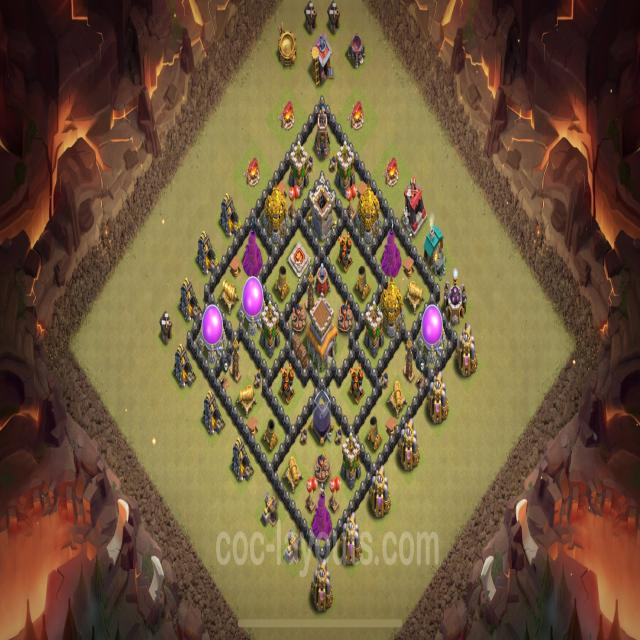air_defense: (276, 361, 296, 407), (347, 363, 367, 406), (336, 230, 354, 276)
air_sweeper: (315, 261, 331, 297)
archer_tower: (334, 137, 357, 200), (340, 429, 361, 491), (364, 300, 385, 359), (287, 140, 309, 193), (259, 302, 279, 358)
army_camp: (278, 97, 298, 134), (347, 98, 366, 134), (243, 155, 262, 189), (382, 153, 399, 190)
barracks: (310, 32, 334, 90)
builders_hut: (157, 308, 174, 348), (326, 0, 341, 39), (303, 0, 317, 35)
cannon: (282, 455, 304, 495), (236, 380, 257, 417), (404, 279, 425, 315), (387, 380, 407, 416), (220, 278, 240, 312)
clan_castle: (308, 174, 336, 237)
dark_barracks: (402, 173, 428, 236)
dark_elixir_drill: (260, 491, 280, 530), (284, 528, 302, 570)
dark_elixir_storage: (310, 388, 335, 448)
dark_spell_factory: (346, 26, 368, 73)
elixir_collector: (311, 558, 334, 616), (456, 323, 478, 382), (397, 418, 420, 474), (427, 369, 449, 427), (368, 465, 391, 520), (341, 512, 361, 568)
elixir_storage: (198, 304, 227, 363), (419, 301, 448, 360), (239, 275, 266, 334)
gold_mine: (200, 386, 226, 438), (178, 274, 202, 325), (231, 436, 255, 485), (195, 228, 220, 274), (218, 192, 242, 238), (172, 343, 195, 390)
gold_storage: (355, 181, 382, 243), (263, 181, 289, 243), (378, 278, 404, 334)
laboratory: (443, 269, 468, 326)
mortar: (364, 414, 384, 454), (272, 263, 292, 302), (354, 264, 372, 302), (262, 417, 278, 455)
spell_factory: (274, 22, 300, 72)
town_hall: (306, 292, 339, 371)
wizard_tower: (381, 221, 402, 278), (242, 225, 262, 278), (312, 490, 332, 542)
